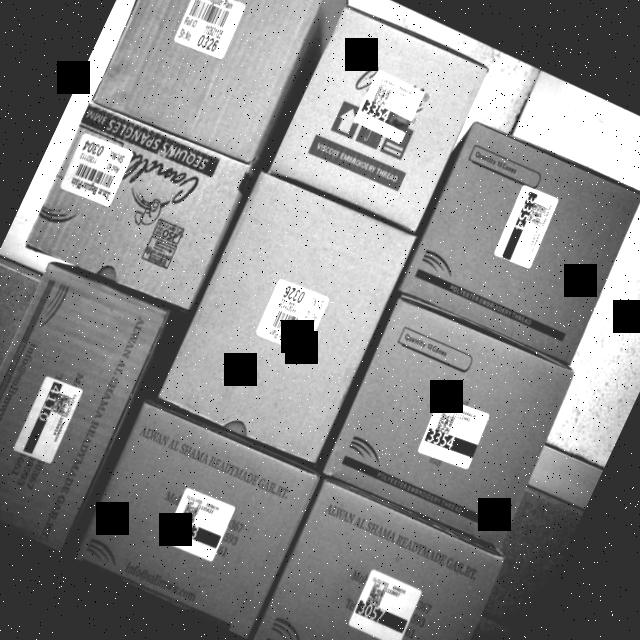box: (150, 162, 422, 478), (316, 291, 584, 559), (395, 118, 640, 368), (76, 398, 322, 638), (0, 255, 178, 554), (272, 0, 492, 232), (23, 99, 250, 314), (249, 479, 508, 640), (94, 0, 339, 165)
